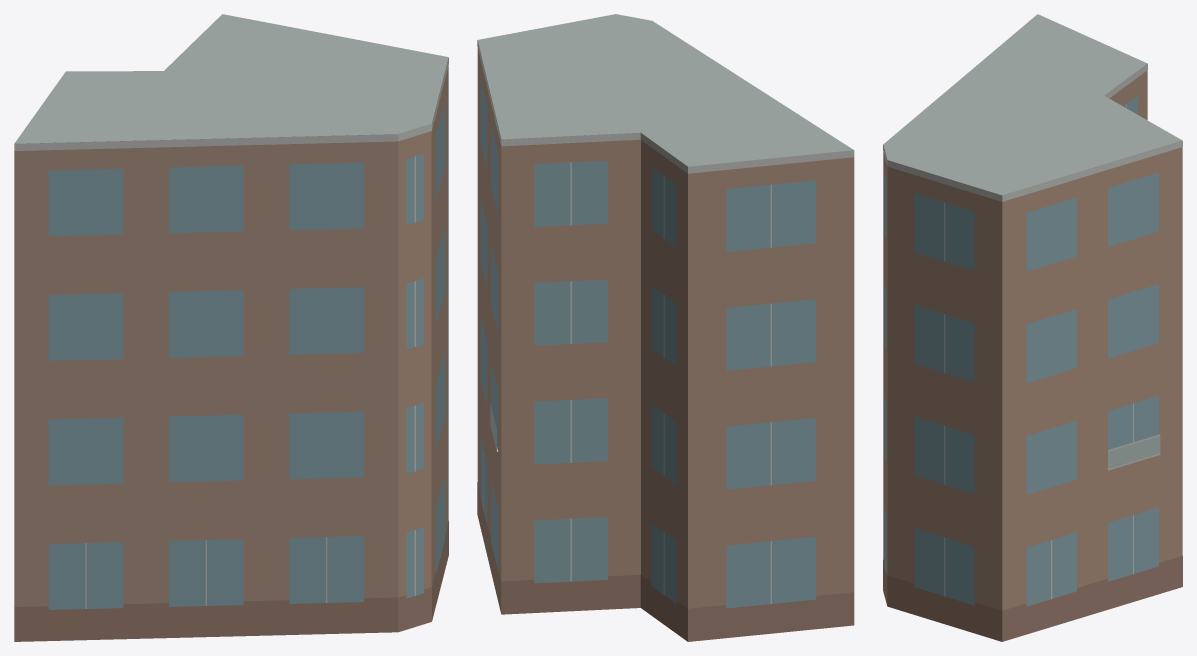
File: survey-upis-32724566.glb
The picture shows the model from 3 angles, left to right: view 1: azimuth 30°, elevation 25°; view 2: azimuth 150°, elevation 25°; view 3: azimuth 270°, elevation 25°; orthographic projection. The views are drawn at different scales.
Visible parts, largest first — view 1: survey-upis-32724566.tmp; view 2: survey-upis-32724566.tmp; view 3: survey-upis-32724566.tmp.
Part boxes in pixels (left/top/right/bottom): survey-upis-32724566.tmp: left=14, top=14, right=448, bottom=641; survey-upis-32724566.tmp: left=477, top=14, right=854, bottom=641; survey-upis-32724566.tmp: left=883, top=14, right=1182, bottom=641.
Bounding box in the file's own units: 14.47 × 16.6 × 10.1.
